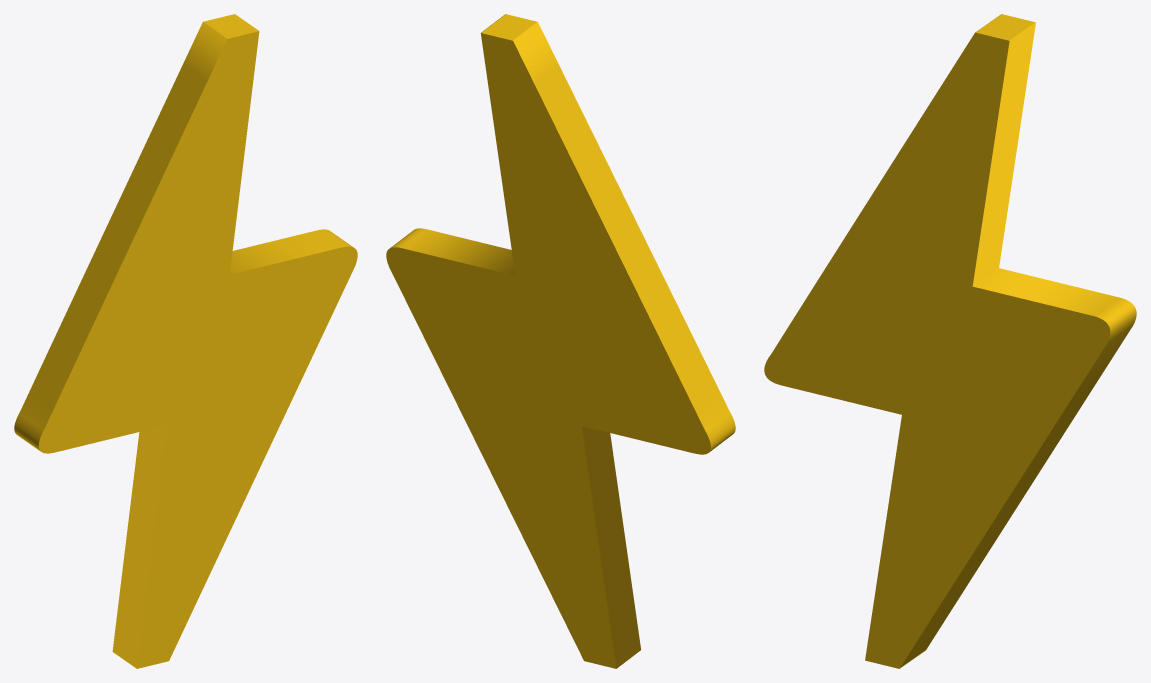
The model's file is bolt1.glb.
3 renders of one model, left to right at view 1: azimuth 30°, elevation 25°; view 2: azimuth 150°, elevation 25°; view 3: azimuth 330°, elevation 25°, orthographic. The views are drawn at different scales.
Parts seen in each view (by area): view 1: Curve.001; view 2: Curve.001; view 3: Curve.001.
Boxes of the visible parts, x1=… form: Curve.001: x1=14, y1=14, x2=357, y2=668; Curve.001: x1=386, y1=14, x2=735, y2=668; Curve.001: x1=764, y1=14, x2=1136, y2=668.
Bounding box in the file's own units: 13.84 × 24.91 × 2.28.
